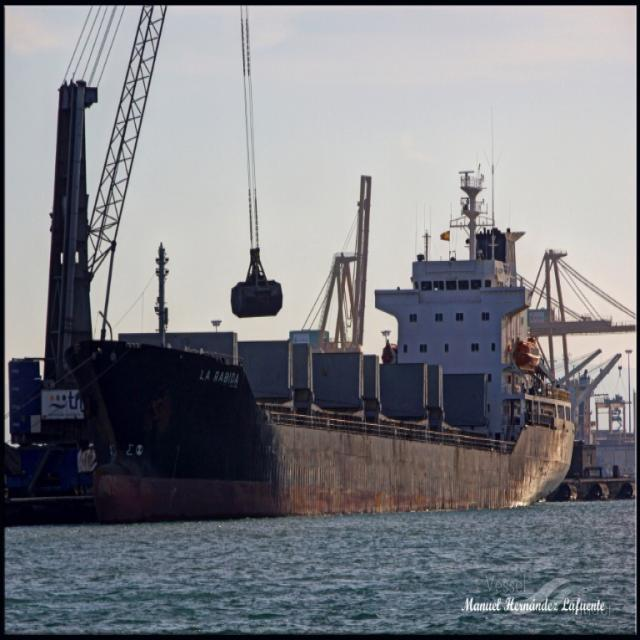OCR: (186, 362, 243, 390)
